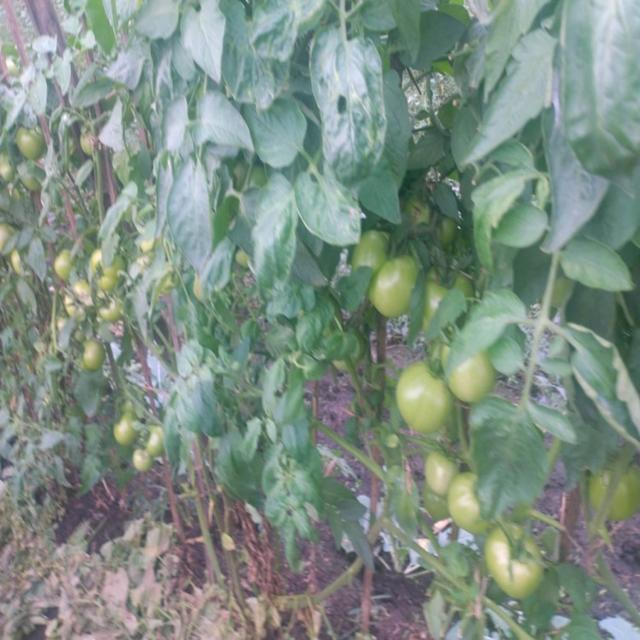tomato: (587, 447, 640, 535), (387, 370, 457, 431), (434, 339, 497, 402), (488, 530, 547, 596), (369, 256, 424, 319), (444, 473, 500, 526), (421, 268, 476, 312), (402, 188, 446, 240), (92, 247, 131, 288), (352, 222, 387, 265), (59, 285, 95, 321), (96, 292, 128, 324), (18, 125, 50, 157), (77, 345, 110, 376), (547, 276, 576, 310), (126, 445, 155, 474), (1, 216, 22, 255), (426, 458, 453, 488), (119, 413, 141, 443), (54, 250, 78, 277), (78, 121, 95, 154), (148, 428, 169, 453), (194, 273, 206, 304), (1, 152, 13, 179), (14, 253, 28, 272), (25, 177, 41, 193)
